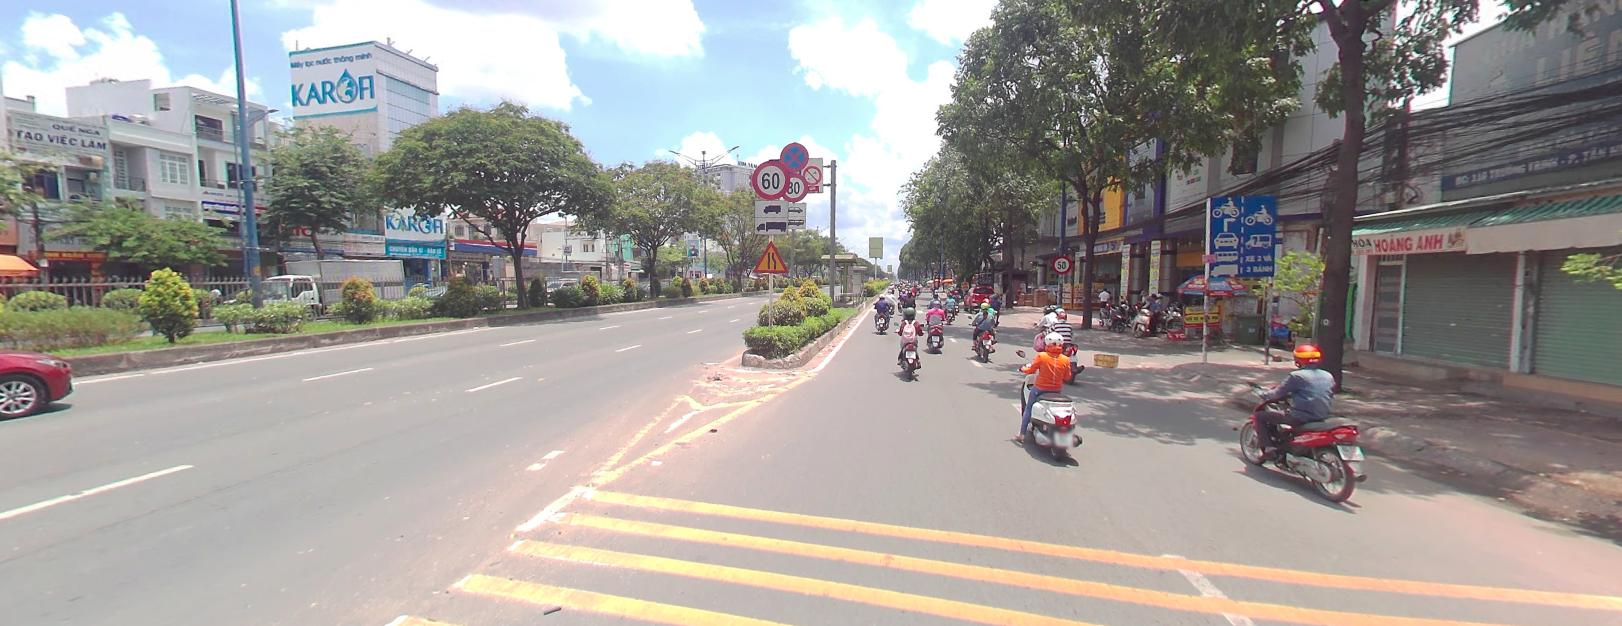Cam con lai: (802, 163, 822, 184)
Cam dung va do: (779, 140, 808, 168)
Gioi han toc do: (751, 159, 787, 200), (781, 173, 808, 199), (1052, 254, 1071, 273)
Nguy hiem: (749, 239, 791, 273)
